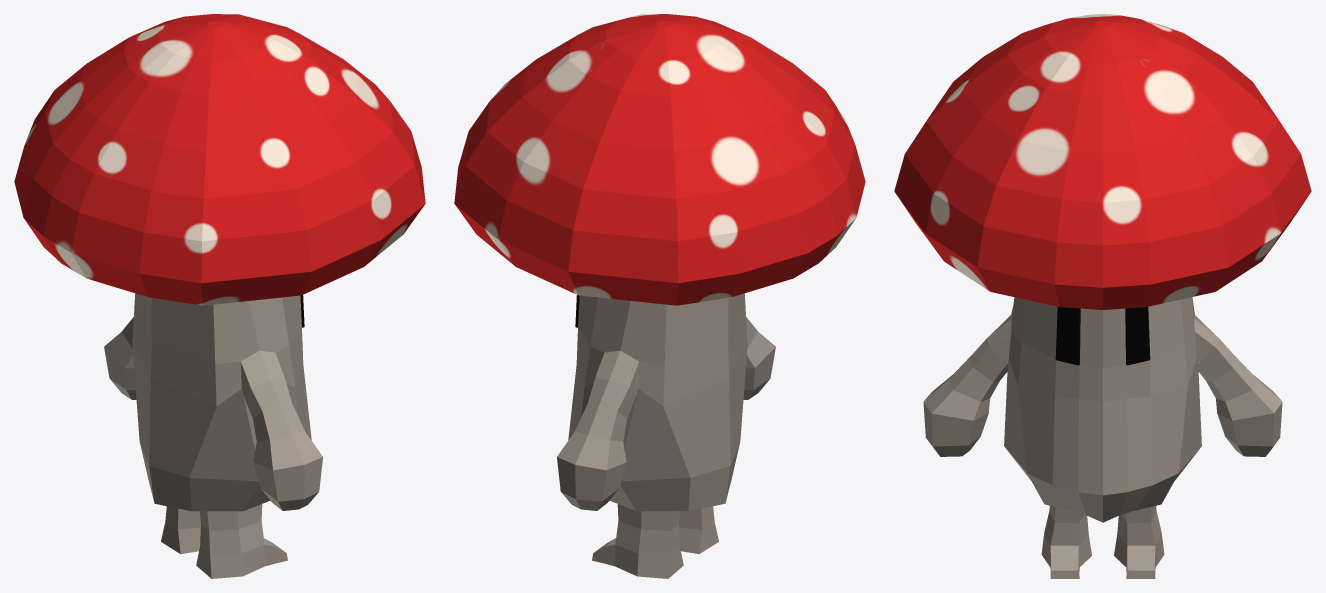
Rendered from mushroom_character.glb.
3 views of the same model, side by side, from view 1: azimuth 30°, elevation 25°; view 2: azimuth 150°, elevation 25°; view 3: azimuth 270°, elevation 25° (orthographic).
Visible parts, largest first — view 1: head, body, arms, legs; view 2: head, body, arms, legs; view 3: head, body, arms, legs, eyes.
Part boxes in pixels (box(x1,y1,x2,y2)): head: box(14, 14, 425, 305); body: box(132, 293, 311, 511); arms: box(104, 317, 322, 510); legs: box(161, 504, 287, 578); head: box(454, 14, 865, 305); body: box(568, 293, 747, 511); arms: box(557, 317, 775, 510); legs: box(592, 504, 718, 578); head: box(894, 14, 1311, 309); body: box(1004, 297, 1201, 522); arms: box(923, 315, 1282, 456); legs: box(1041, 506, 1164, 578); eyes: box(1055, 307, 1150, 365).
Size of the model in its own units: 1.42 by 1.99 by 1.41.
1 material, 1 textured.
